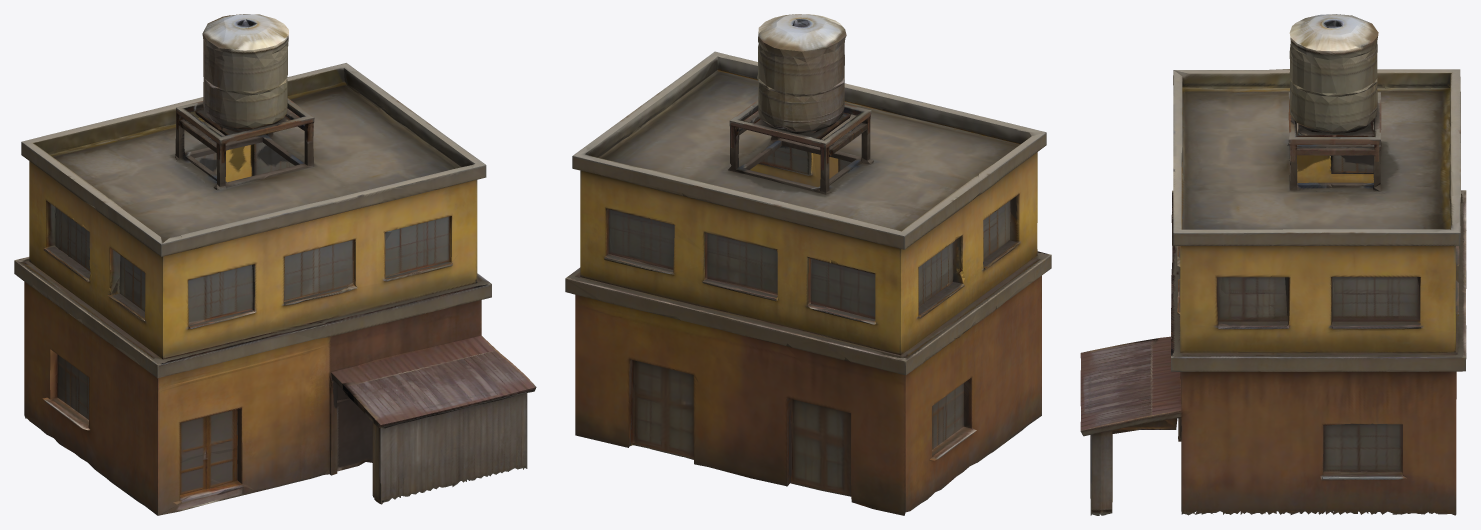
The model's file is Warehouse_with_Water__0617193035_texture.fbx.
3 views of the same model, side by side, from view 1: azimuth 30°, elevation 25°; view 2: azimuth 150°, elevation 25°; view 3: azimuth 270°, elevation 25° (orthographic). The views are drawn at different scales.
Parts seen in each view (by area): view 1: temp; view 2: temp; view 3: temp.
Boxes of the visible parts, x1,y1,x2,y2 form: temp: (14,14,536,515); temp: (565,14,1051,515); temp: (1080,14,1466,515).
Bounding box in the file's own units: 176 × 201 × 171.
1 material, 1 textured.
